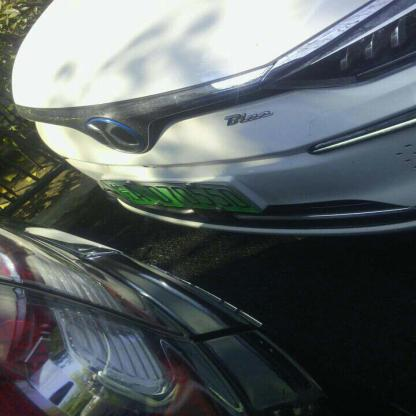lp: (105, 182, 261, 214)
